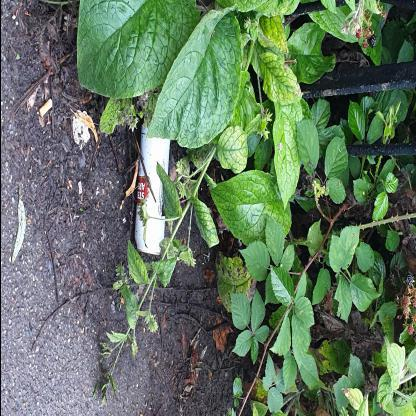metal: (135, 123, 171, 257)
